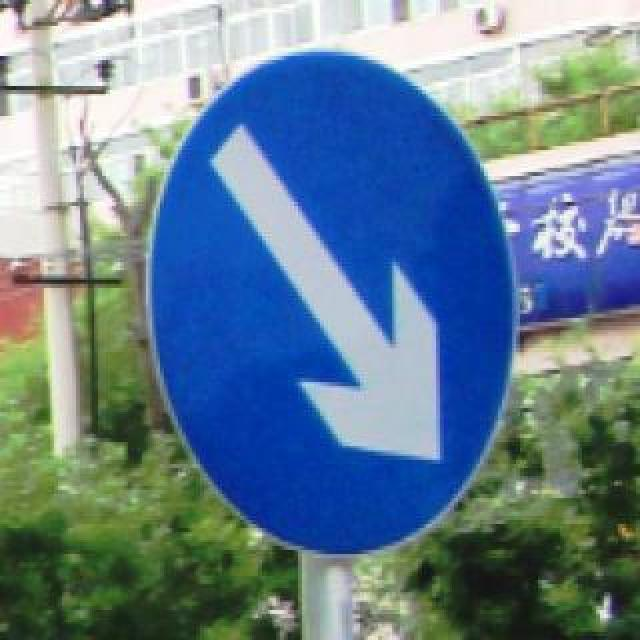keep right: (138, 42, 520, 558)
